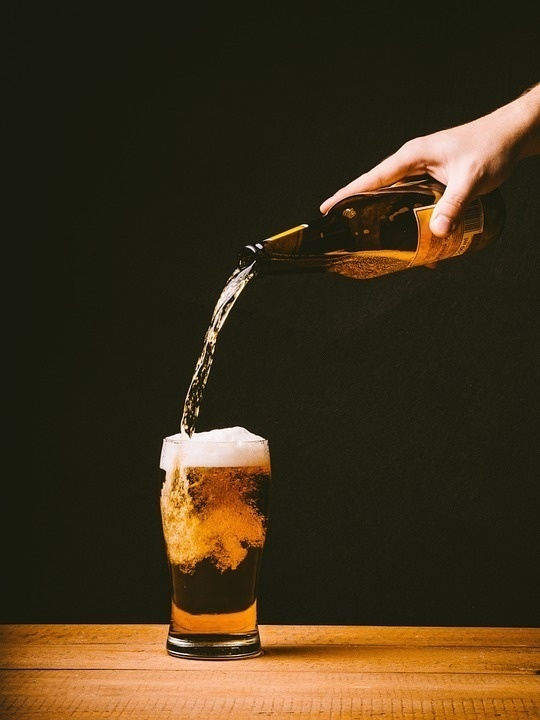whiskey: (157, 430, 271, 657)
